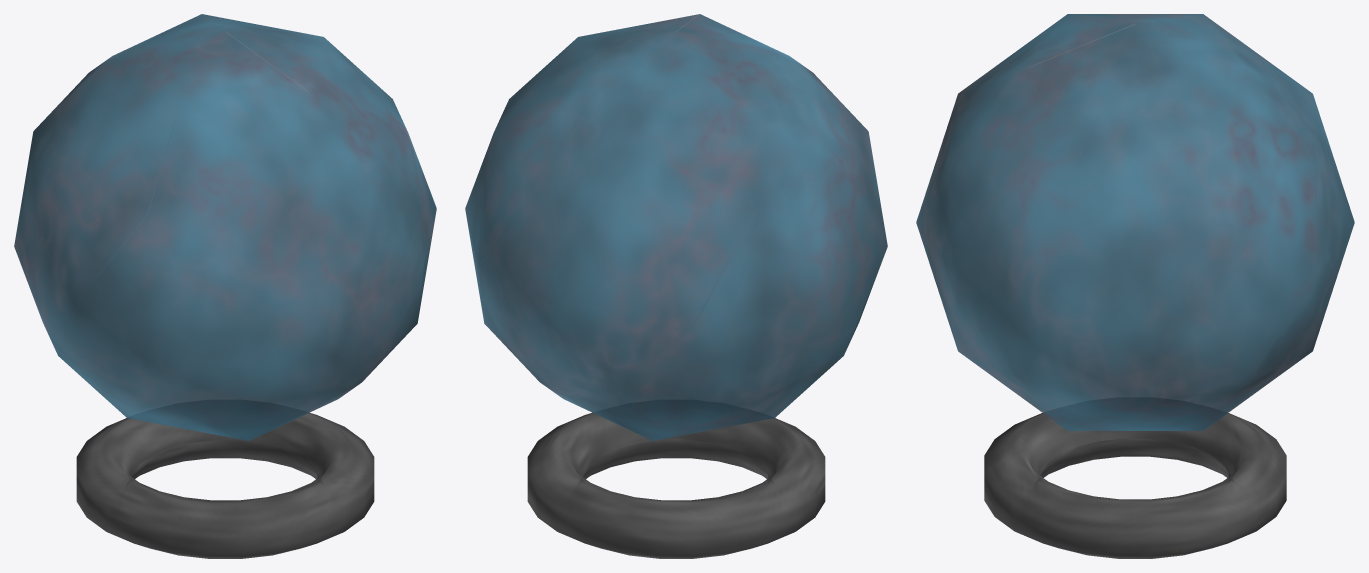
The model's file is Orb.fbx.
3 views of the same model, side by side, from view 1: azimuth 30°, elevation 25°; view 2: azimuth 150°, elevation 25°; view 3: azimuth 270°, elevation 25° (orthographic).
Visible parts, largest first — view 1: Orb; view 2: Orb; view 3: Orb.
Part boxes in pixels (box(x1,y1,x2,y2)): Orb: box(14, 14, 436, 558); Orb: box(465, 14, 887, 558); Orb: box(916, 14, 1354, 558).
Bounding box in the file's own units: 1.33 × 1.7 × 1.4.
